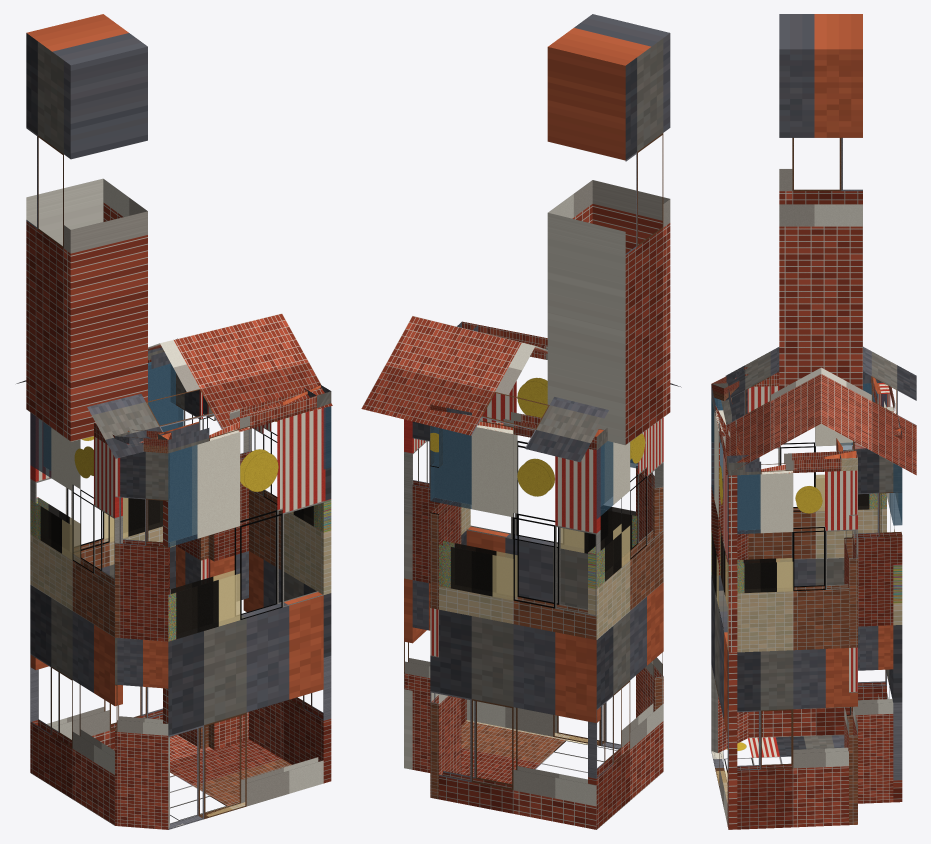
3 renders of one model, left to right at view 1: azimuth 30°, elevation 25°; view 2: azimuth 150°, elevation 25°; view 3: azimuth 270°, elevation 25°, orthographic. The views are drawn at different scales.
Visible parts, largest first — view 1: 1132023213__chimney_0_xb, 1132023213__wall_2_xb, 1132023213__wall_0_xb, 1132023213__wall_1_xb, 1132023213__wall_3_xb, 1132023213_roof_-1_xb, 1132023213__wall_6_xb, 1132023213__wall_2_xf, 1132023213__base, 1132023213__wall_4_xb, 1132023213__wall_6_xf, 1132023213__wall_0_xf (+4 smaller); view 2: 1132023213__chimney_0_xb, 1132023213__wall_6_xb, 1132023213__wall_0_xb, 1132023213_roof_1_xb, 1132023213__wall_2_xb, 1132023213__wall_6_xf, 1132023213__wall_4_xb, 1132023213__wall_5_xb, 1132023213__base, 1132023213__wall_3_xb, 1132023213__wall_1_xb, 1132023213__wall_0_xf (+3 smaller); view 3: 1132023213__wall_3_xb, 1132023213__chimney_0_xb, 1132023213__wall_5_xb, 1132023213__wall_0_xb, 1132023213__wall_2_xb, 1132023213_roof_1_xb, 1132023213_roof_-1_xb, 1132023213__wall_6_xb, 1132023213__wall_3_xf, 1132023213__wall_4_xb, 1132023213__wall_1_xb, 1132023213__base (+7 smaller).
Part boxes in pixels (box(x1,y1,x2,y2)): 1132023213__chimney_0_xb: box(26, 14, 147, 441); 1132023213__wall_2_xb: box(163, 406, 331, 829); 1132023213__wall_0_xb: box(30, 412, 122, 825); 1132023213__wall_1_xb: box(115, 451, 169, 829); 1132023213__wall_3_xb: box(243, 406, 331, 783); 1132023213_roof_-1_xb: box(87, 313, 332, 458); 1132023213__wall_6_xb: box(30, 362, 183, 750); 1132023213__wall_2_xf: box(168, 445, 239, 640); 1132023213__base: box(170, 735, 291, 827); 1132023213__wall_4_xb: box(208, 406, 255, 749); 1132023213__wall_6_xf: box(104, 362, 183, 541); 1132023213__wall_0_xf: box(30, 413, 79, 559); 1132023213__chimney_0_xb: box(547, 14, 670, 445); 1132023213__wall_6_xb: box(430, 425, 600, 829); 1132023213__wall_0_xb: box(588, 417, 663, 829); 1132023213_roof_1_xb: box(361, 316, 608, 462); 1132023213__wall_2_xb: box(466, 378, 644, 749); 1132023213__wall_6_xf: box(430, 426, 516, 599); 1132023213__wall_4_xb: box(404, 421, 442, 772); 1132023213__wall_5_xb: box(430, 426, 461, 799); 1132023213__base: box(461, 720, 617, 784); 1132023213__wall_3_xb: box(404, 419, 470, 769); 1132023213__wall_1_xb: box(636, 466, 663, 717); 1132023213__wall_0_xf: box(588, 441, 629, 587); 1132023213__wall_3_xb: box(727, 470, 857, 829); 1132023213__chimney_0_xb: box(779, 14, 862, 389); 1132023213__wall_5_xb: box(852, 446, 902, 803); 1132023213__wall_0_xb: box(748, 383, 886, 737); 1132023213__wall_2_xb: box(711, 398, 737, 829); 1132023213_roof_1_xb: box(821, 346, 916, 475); 1132023213_roof_-1_xb: box(725, 347, 821, 475); 1132023213__wall_6_xb: box(877, 383, 902, 802); 1132023213__wall_3_xf: box(728, 474, 792, 592); 1132023213__wall_4_xb: box(844, 450, 857, 825); 1132023213__wall_1_xb: box(711, 389, 748, 752); 1132023213__base: box(711, 735, 844, 802).
Bounding box in the file's own units: 0.4546 × 1.4 × 0.3681.
Materials: 1 (1 with a texture image).
